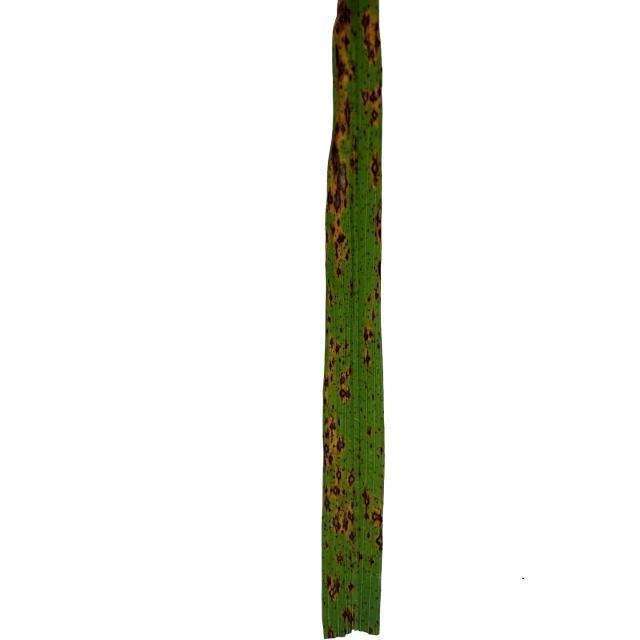Leaf_Blast: (334, 9, 355, 96), (331, 151, 350, 217), (359, 7, 379, 66), (362, 84, 380, 129), (337, 100, 354, 141), (325, 572, 341, 598), (329, 511, 342, 535), (332, 464, 345, 483), (335, 436, 348, 455), (345, 467, 356, 488), (347, 509, 357, 527), (362, 489, 370, 508), (377, 534, 385, 551), (374, 510, 381, 527)
